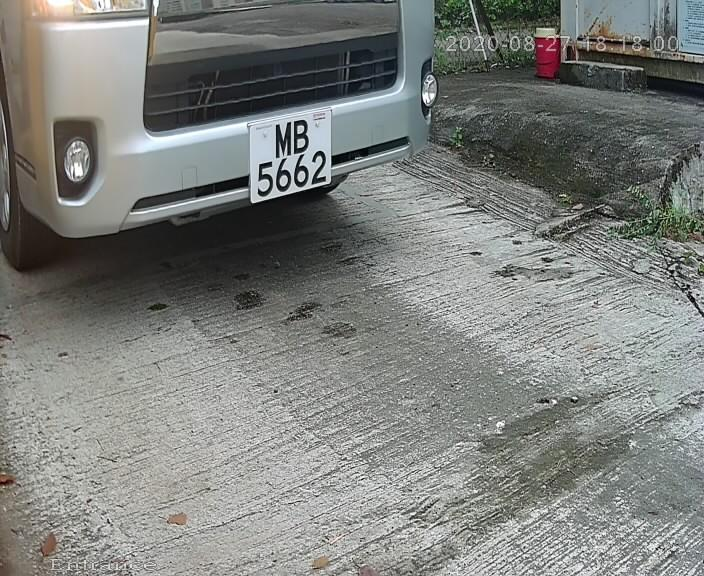License Plate: (238, 97, 339, 219)
